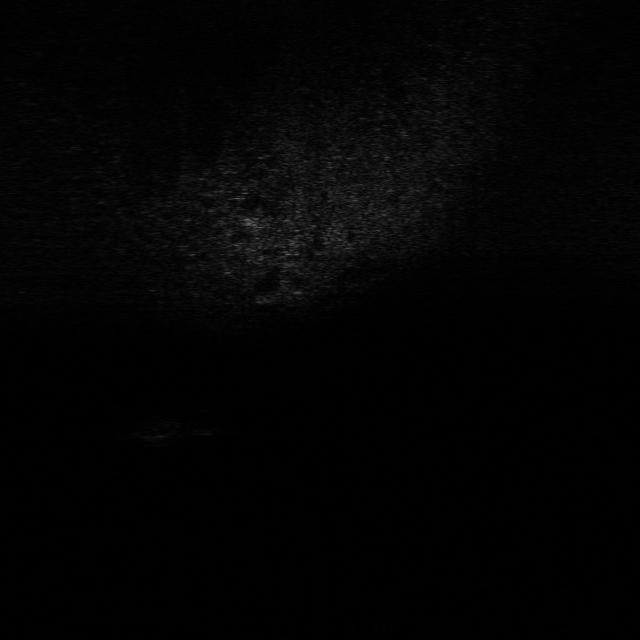ball: (190, 409, 220, 436)
circle cage: (133, 414, 191, 446)
